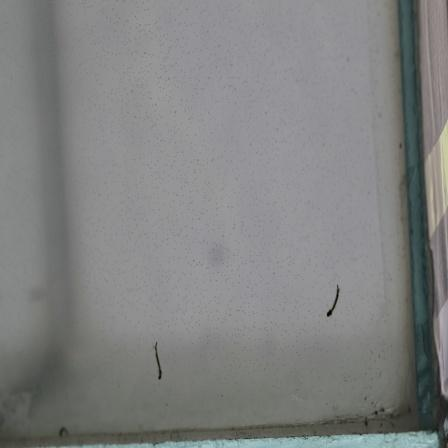Jentik-Nyamuk: (324, 281, 344, 321), (151, 339, 166, 384)
